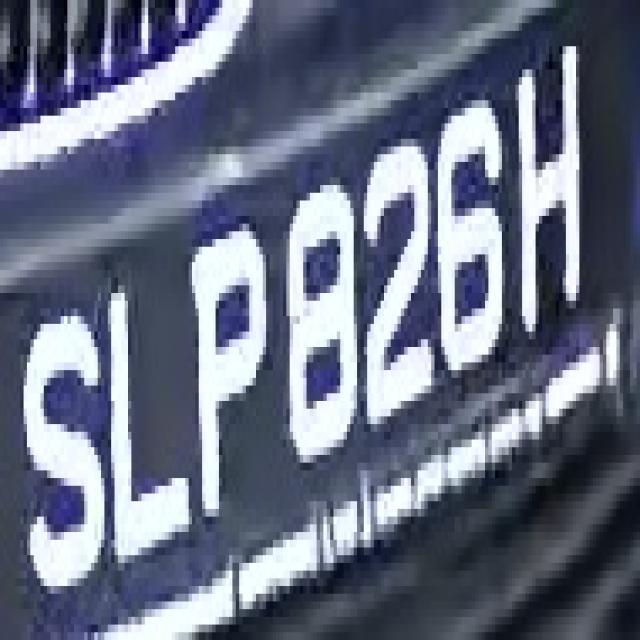2: (354, 131, 434, 447)
6: (428, 77, 505, 386)
8: (280, 154, 364, 478)
H: (508, 23, 592, 324)
L: (101, 270, 192, 570)
P: (175, 216, 263, 547)
S: (24, 277, 104, 594)
